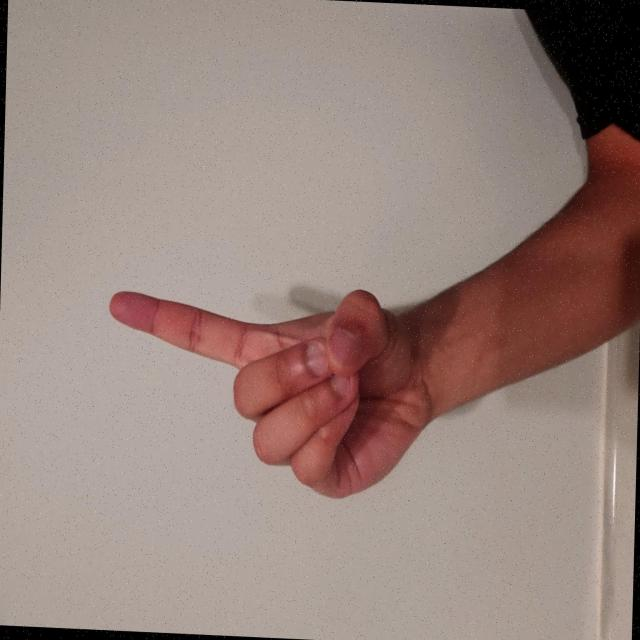D: (96, 128, 276, 589)
